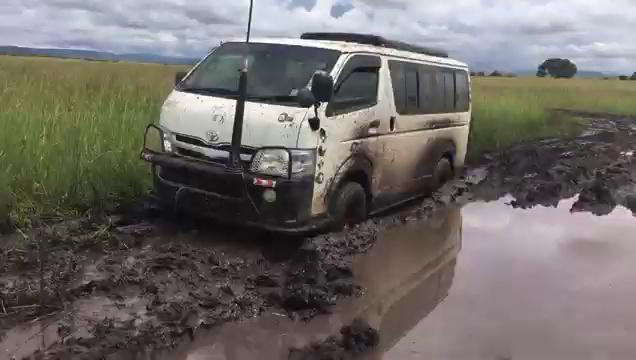Van: (144, 32, 485, 228)
